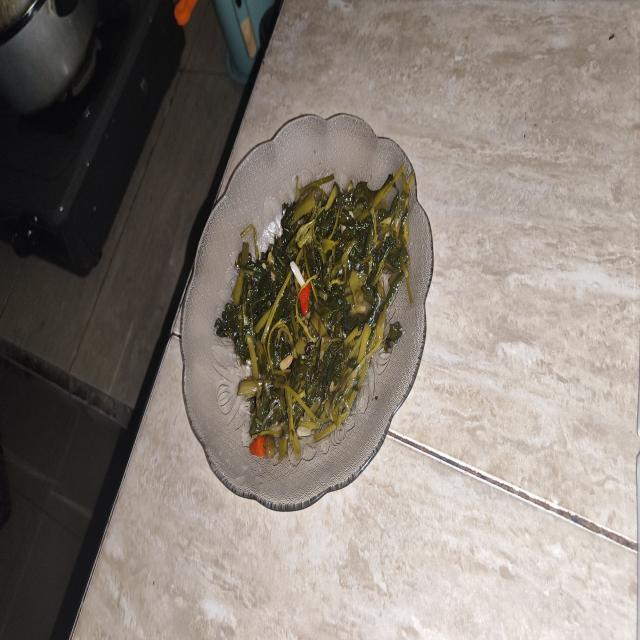tumis_kangkung: (218, 165, 414, 460)
